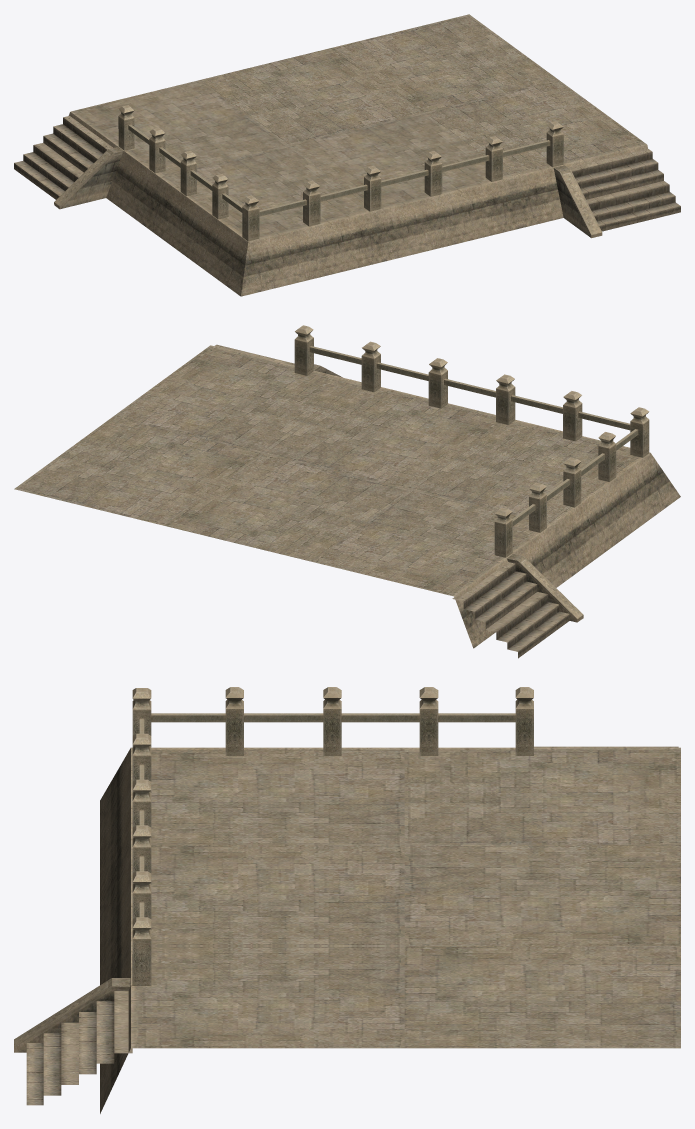
The model's file is desert_tower01.glb.
The picture shows the model from 3 angles, top to bottom: view 1: azimuth 30°, elevation 25°; view 2: azimuth 150°, elevation 25°; view 3: azimuth 270°, elevation 25°; orthographic projection. The views are drawn at different scales.
Visible parts, largest first — view 1: desert_tower02_04; view 2: desert_tower02_04; view 3: desert_tower02_04.
Part boxes in pixels (x1=…): desert_tower02_04: x1=14, y1=14, x2=680, y2=296; desert_tower02_04: x1=14, y1=325, x2=680, y2=658; desert_tower02_04: x1=14, y1=687, x2=680, y2=1113.
Bounding box in the file's own units: 42.51 × 7.32 × 34.34.
1 material, 1 textured.
